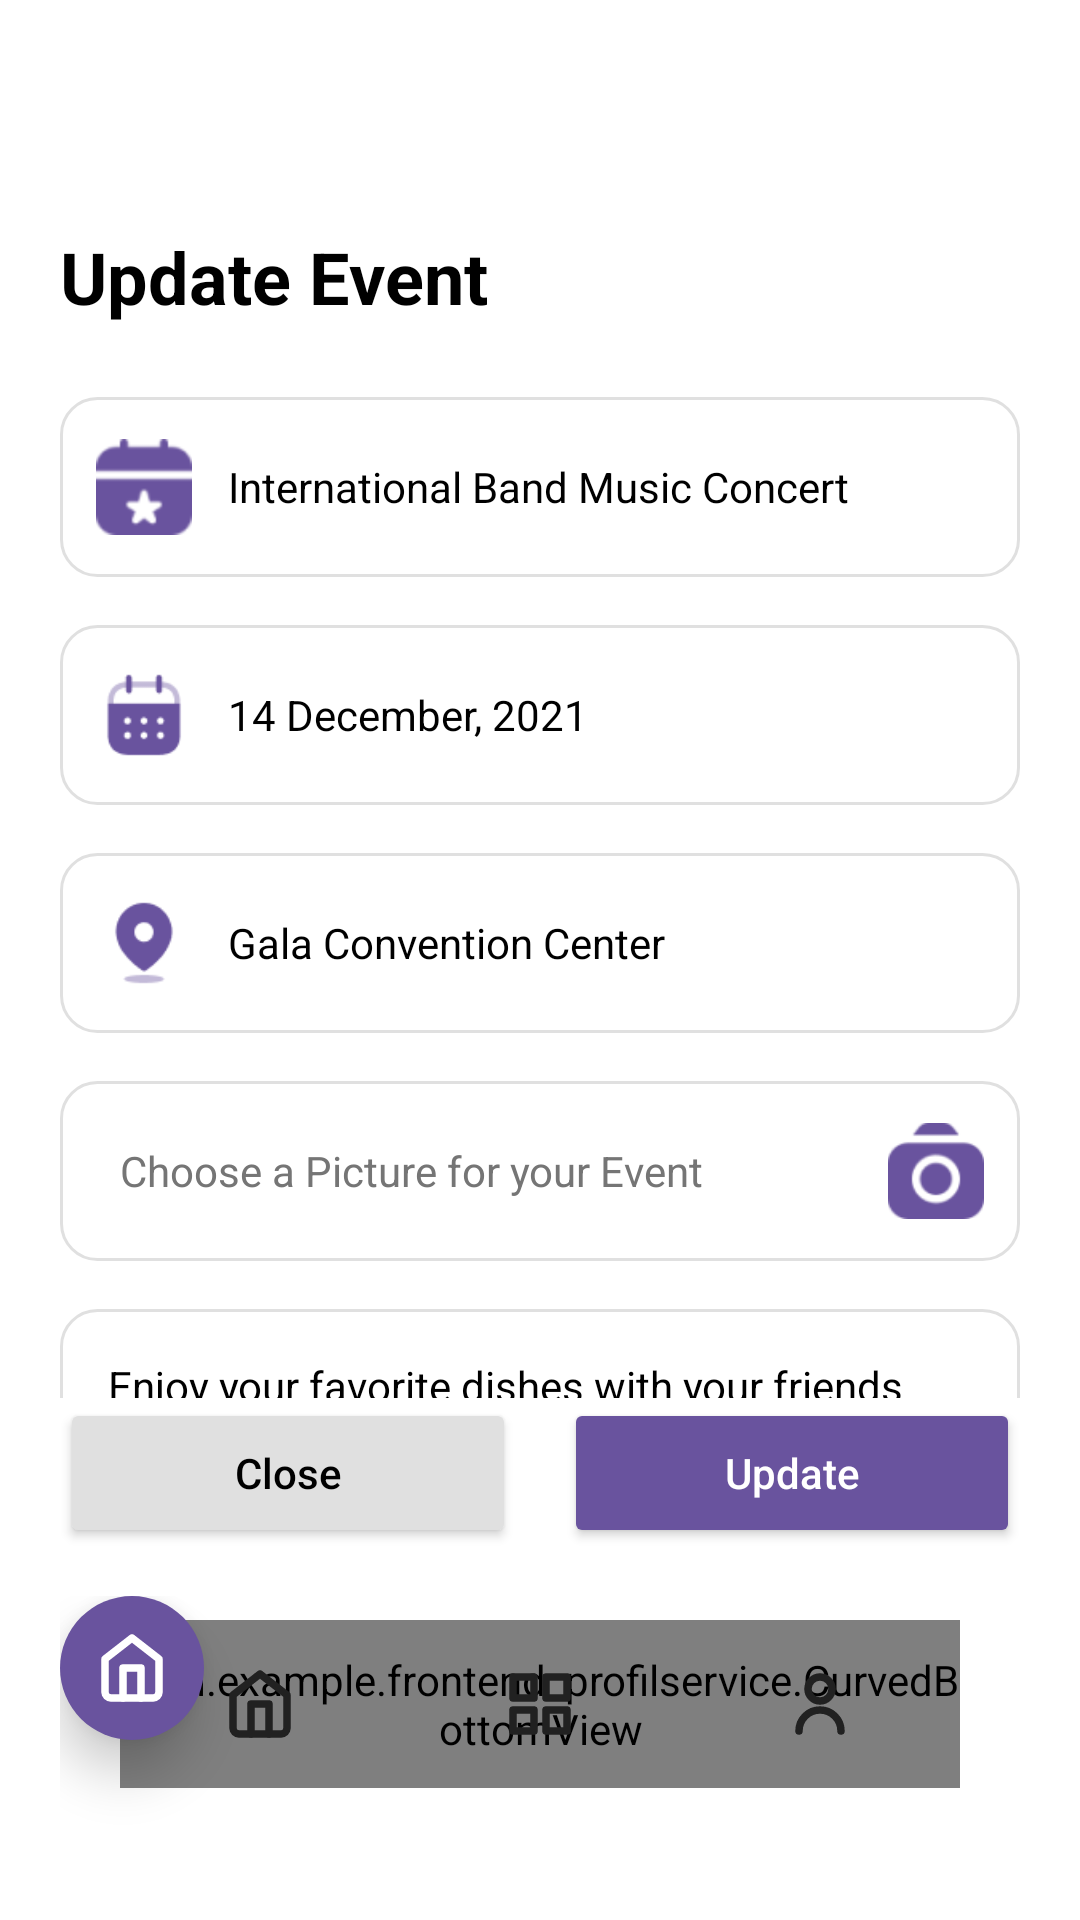

Icon click points for this 1080 × 1920 phone screenshot, format point (x, y):
create camera: point (936, 1171)
create location: point (144, 942)
create time: point (144, 715)
home: point (132, 1668), point (260, 1704)
